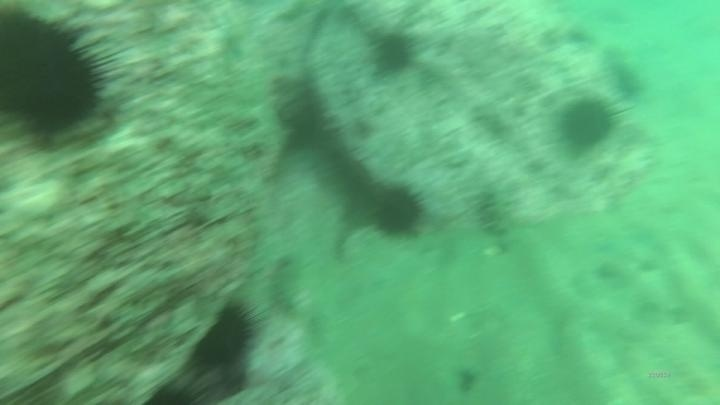echinus: (1, 5, 120, 147), (188, 298, 262, 376), (552, 92, 625, 158), (368, 180, 430, 241), (369, 29, 419, 78), (596, 48, 628, 80), (613, 72, 644, 104)
holothurian: (474, 181, 517, 241)
